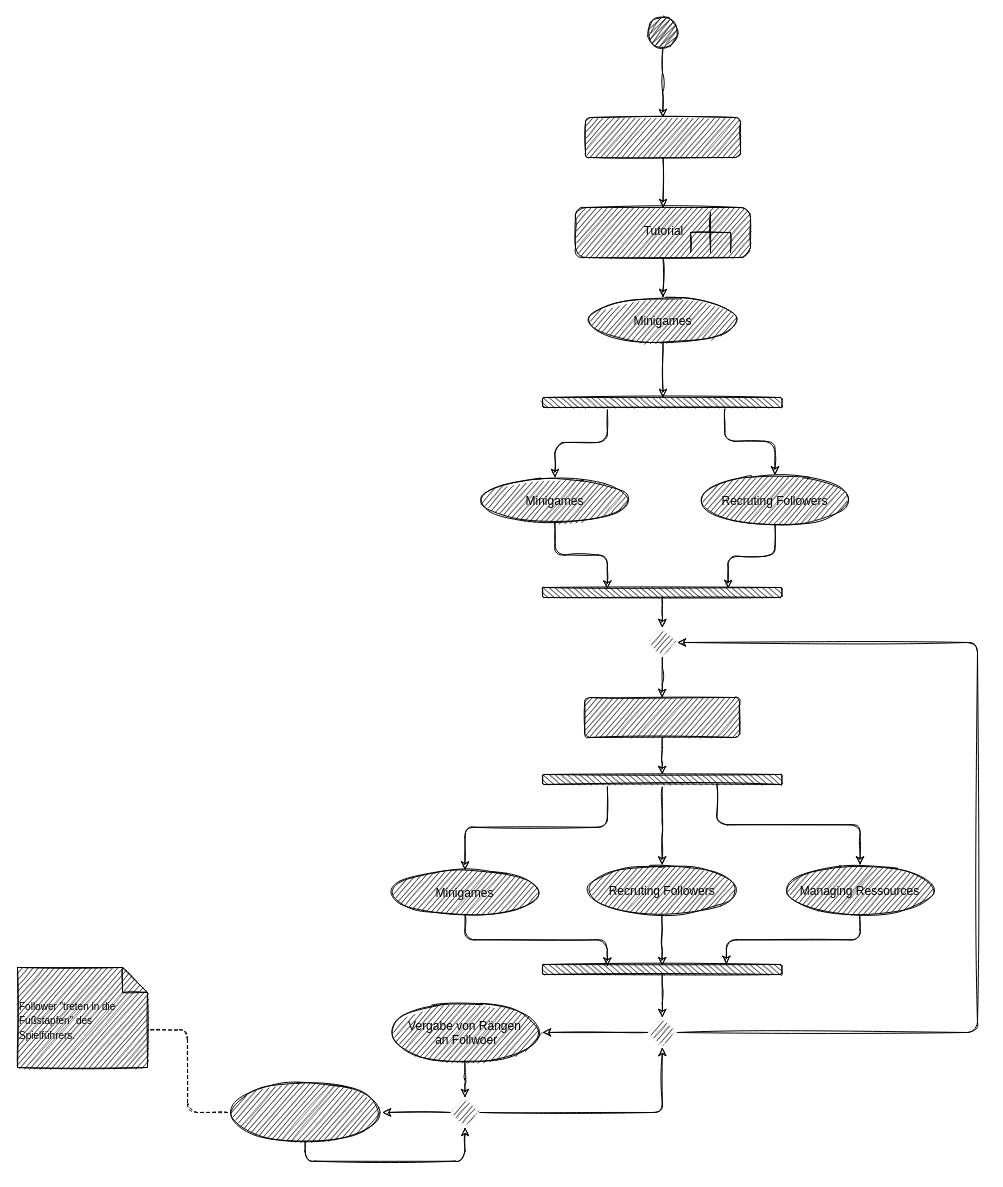
The diagram is 1003 pixels wide and 1187 high, and some of its shapes have lost their labels. Here are the shapes that lost their labels. From the top down, the centre of each, then its label:
(x=662, y=137): Beitritt in Gruppe -> als Spielführer
(x=662, y=717): Aufstieg innerhalb der Gruppe (1 Rang)
(x=304, y=1112): Abgabe von Gebieten, Aufgabenbereichen
